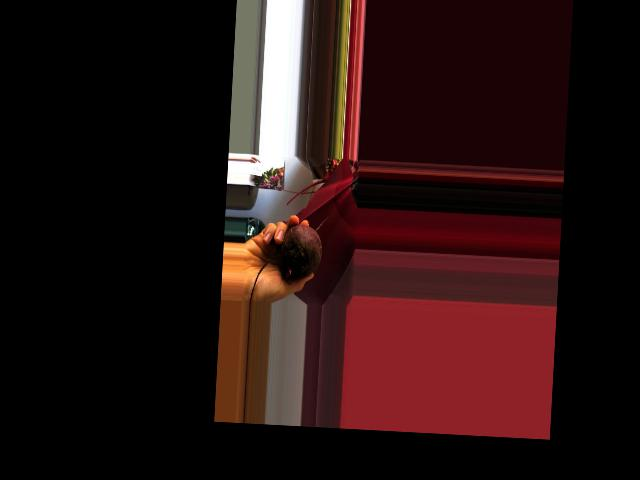beet: (249, 210, 331, 305)
